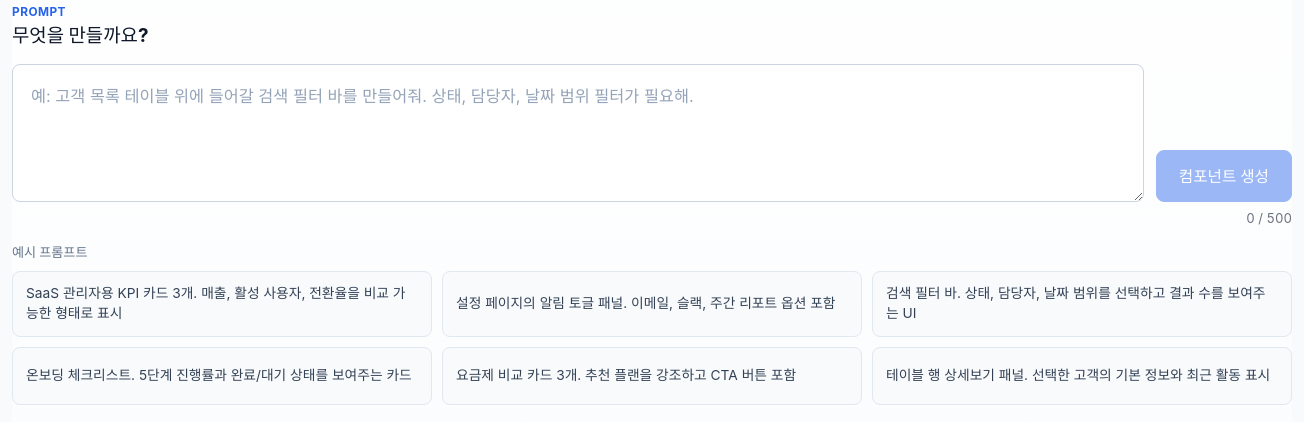
Test: PromptInput › 글자 수를 "현재 / 500" 형식으로 보여준다
Expected: the text "0 / 500" is shown, 1246,210 -> 1292,226
Type "프로필 카드" into the text box at x=578, y=133, box 12,64 -> 1144,202
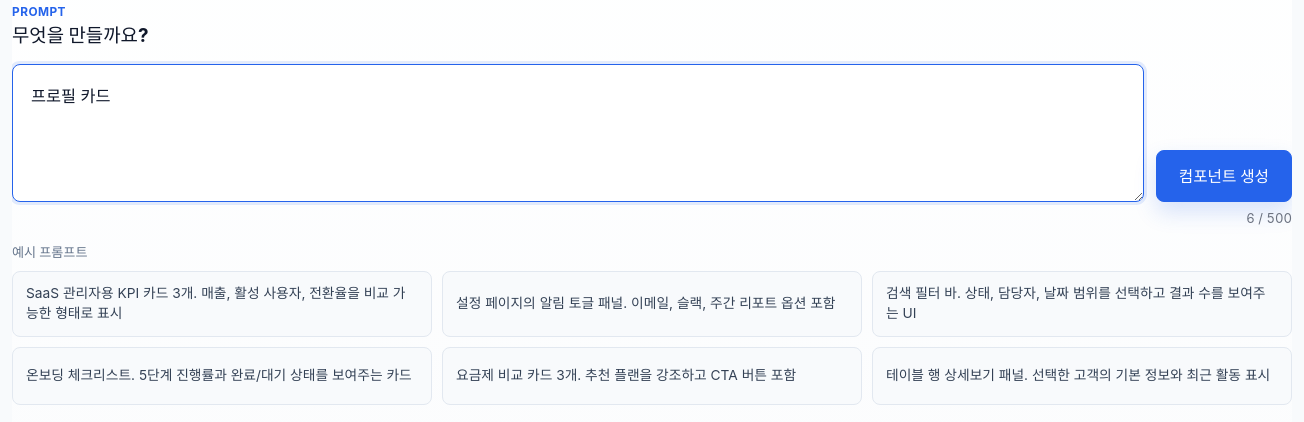
Now the text "6 / 500" is shown, box 1246,210 -> 1292,226
